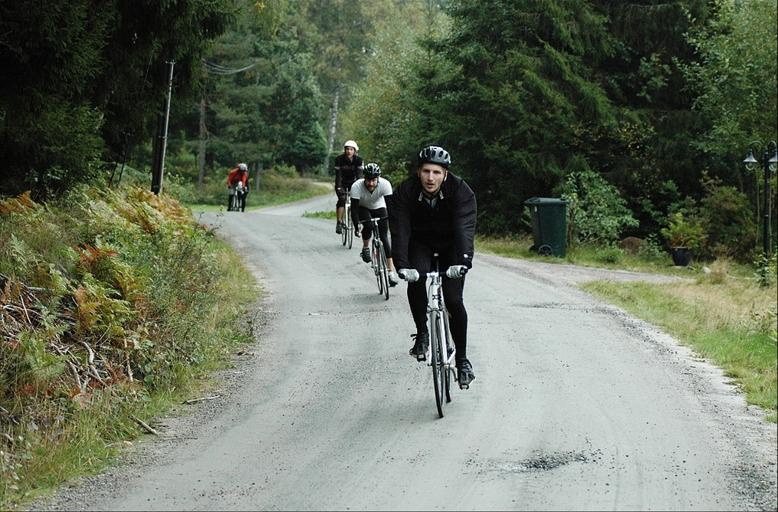non-vehicle: (398, 266, 478, 422), (354, 214, 391, 300), (336, 186, 353, 249), (229, 179, 248, 212)
